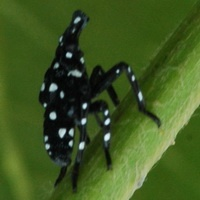insect: (39, 10, 160, 192)
